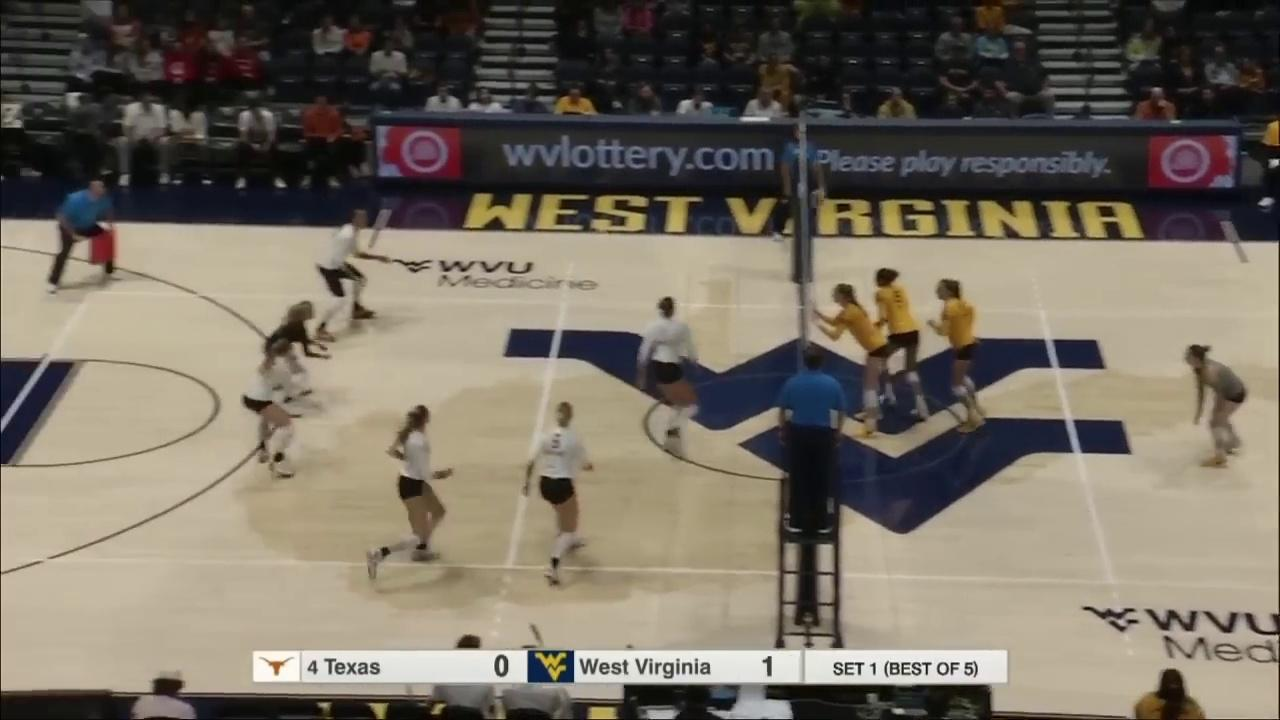player: (366, 404, 453, 580), (521, 402, 598, 584), (812, 283, 890, 437), (313, 210, 393, 340), (637, 297, 699, 460), (866, 268, 929, 419), (929, 279, 986, 432), (239, 339, 300, 480), (1186, 345, 1250, 466), (264, 300, 329, 417)
refree: (779, 347, 846, 535), (46, 179, 117, 296), (778, 129, 827, 238)
